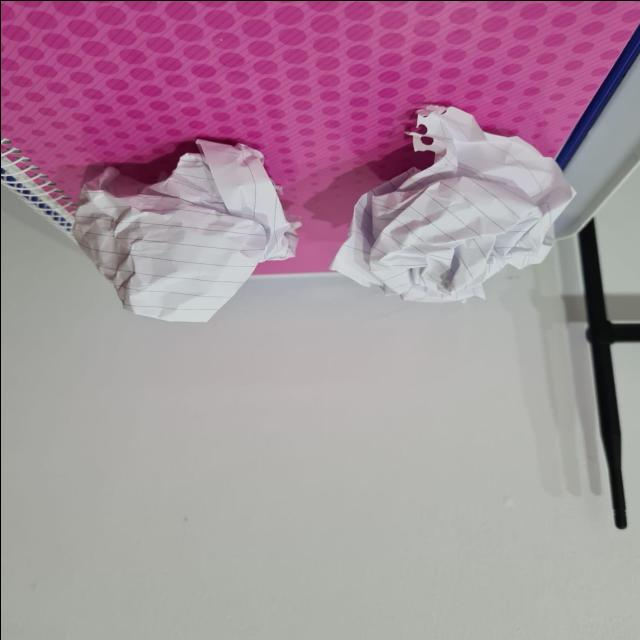kertas: (340, 126, 576, 316), (79, 133, 299, 322)
